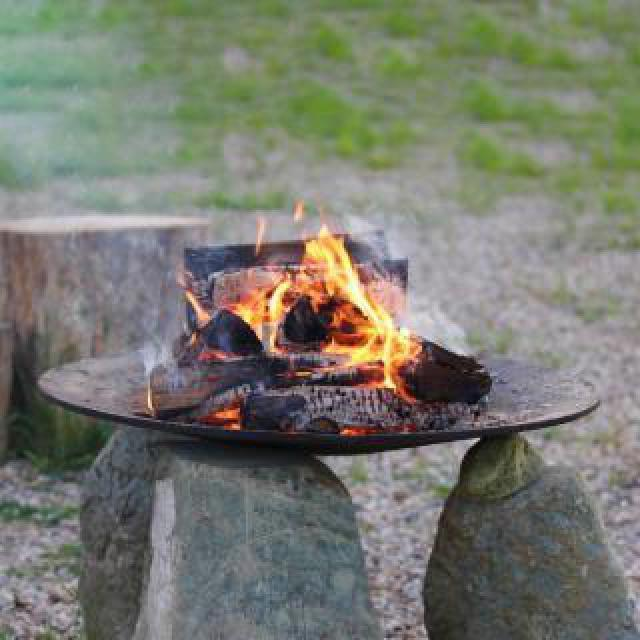Fire: (182, 230, 394, 398)
Smoke: (6, 10, 210, 384), (365, 266, 478, 364)
